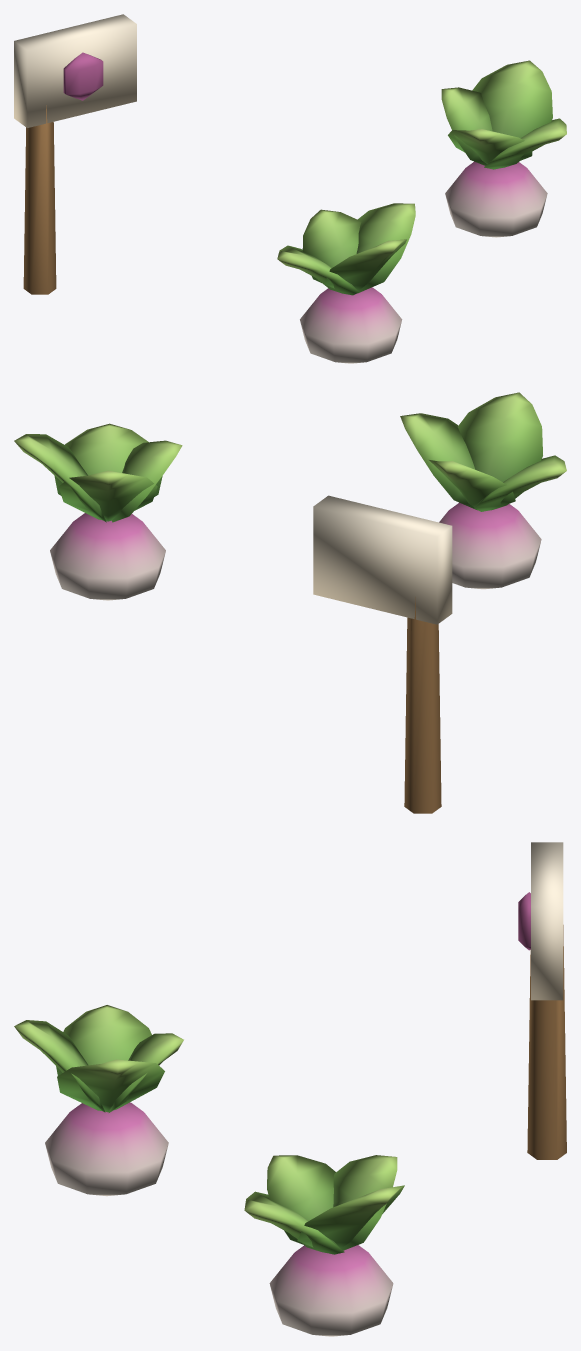
The model's file is prop-crop-turnip-young.glb.
3 views of the same model, one above another, from view 1: azimuth 30°, elevation 25°; view 2: azimuth 150°, elevation 25°; view 3: azimuth 270°, elevation 25° (orthographic). The views are drawn at different scales.
Parts seen in each view (by area): view 1: body, leaf; view 2: body, leaf; view 3: body, leaf.
Boxes of the visible parts, x1=… form: body: x1=14, y1=14, x2=547, y2=363; leaf: x1=277, y1=60, x2=566, y2=295; body: x1=50, y1=495, x2=541, y2=813; leaf: x1=14, y1=392, x2=566, y2=522; body: x1=45, y1=842, x2=566, y2=1336; leaf: x1=14, y1=1005, x2=404, y2=1254.
Size of the model in its own units: 0.6917 by 0.3675 by 0.6154.
